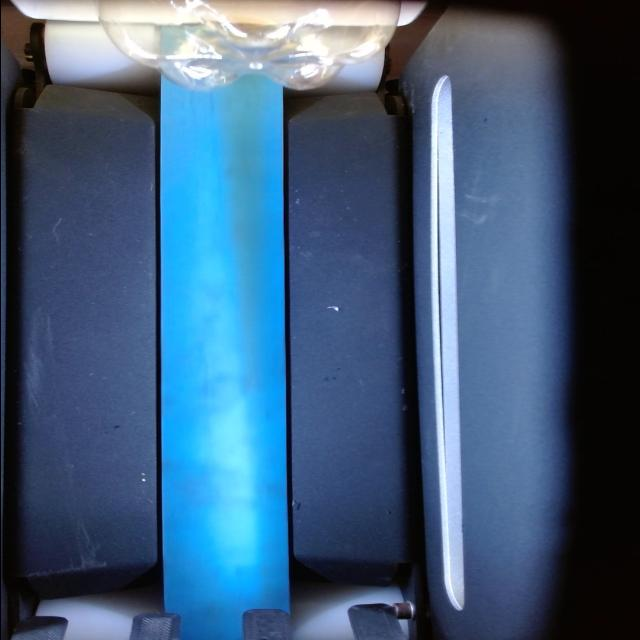bottle: (99, 0, 400, 90)
